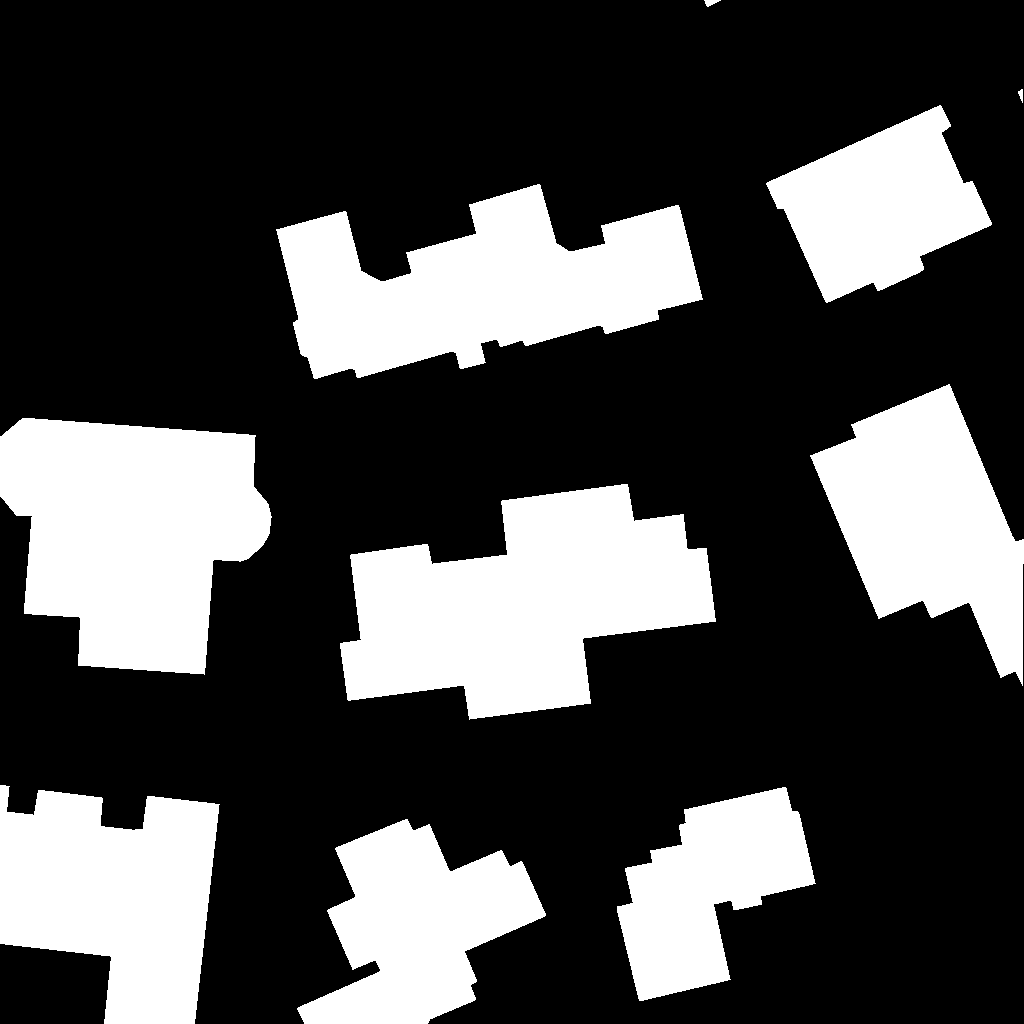building: (340, 484, 717, 720), (276, 184, 704, 380), (0, 418, 272, 675), (810, 384, 1024, 688), (0, 785, 220, 1024), (297, 819, 547, 1024), (766, 105, 993, 304), (617, 787, 816, 1002), (704, 0, 723, 8), (1018, 89, 1024, 105)
